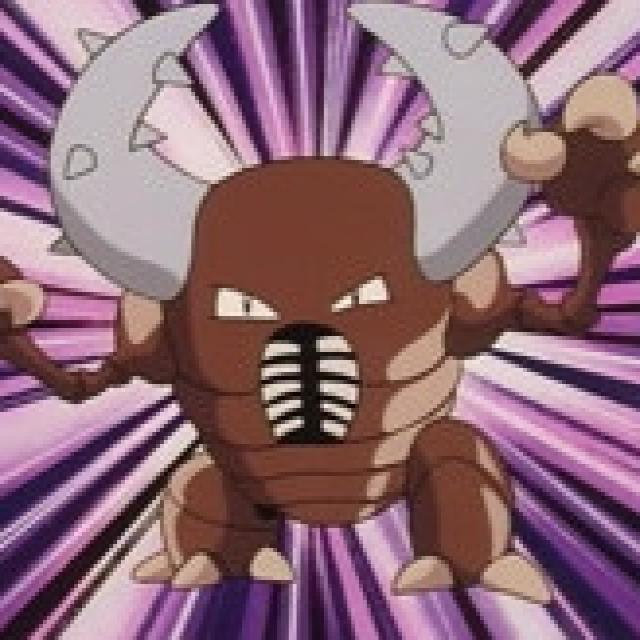Pinsir: (97, 6, 526, 603)
